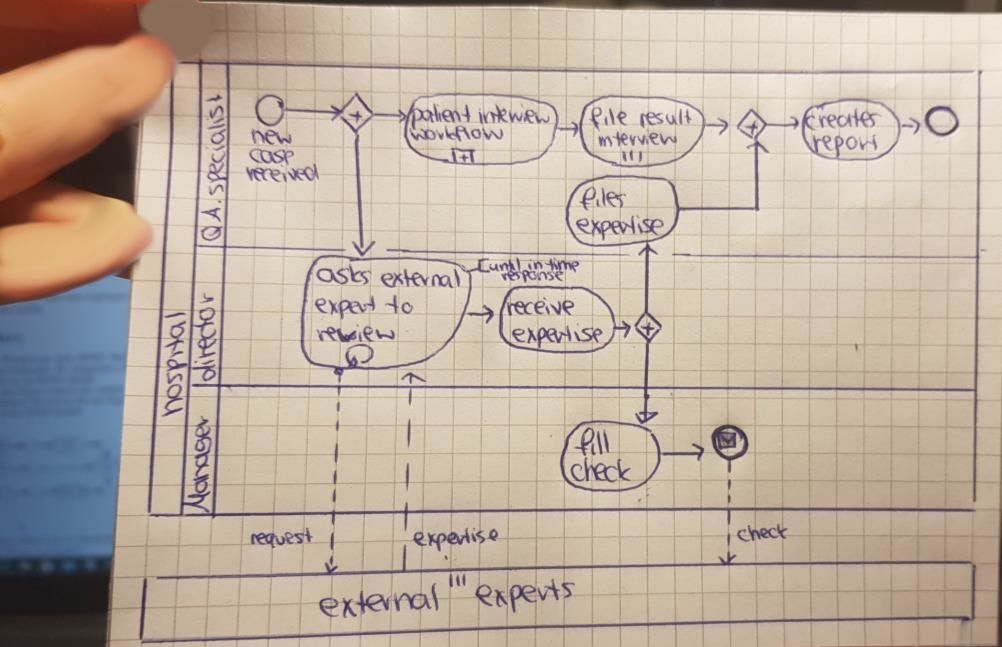Manager: (178, 411, 219, 519)
asks: (312, 260, 377, 289)
case: (245, 144, 299, 169)
check: (566, 454, 637, 486), (734, 519, 792, 546)
creates: (800, 105, 884, 134)
director: (184, 289, 222, 385)
expert: (310, 291, 380, 323)
expertise: (571, 210, 669, 245), (509, 320, 606, 354), (409, 523, 503, 555)
experts: (471, 575, 581, 616)
external: (313, 576, 444, 624), (376, 264, 467, 293)
file: (585, 103, 633, 135)
files: (574, 182, 632, 215)
fill: (569, 424, 615, 460)
hospital: (153, 307, 194, 424)
in: (524, 255, 546, 273)
interview: (472, 100, 556, 129), (596, 126, 681, 150)
new: (247, 124, 297, 149)
patient: (407, 100, 476, 134)
receive: (502, 293, 578, 321)
received: (241, 160, 324, 187)
report: (807, 130, 882, 163)
request: (245, 524, 317, 553)
response: (498, 266, 568, 286)
result: (634, 104, 696, 132)
review: (311, 320, 398, 346)
specialist: (196, 89, 233, 200)
time: (541, 255, 583, 275)
to: (381, 291, 419, 320)
until: (486, 254, 524, 276)
workflow: (405, 121, 507, 147)
